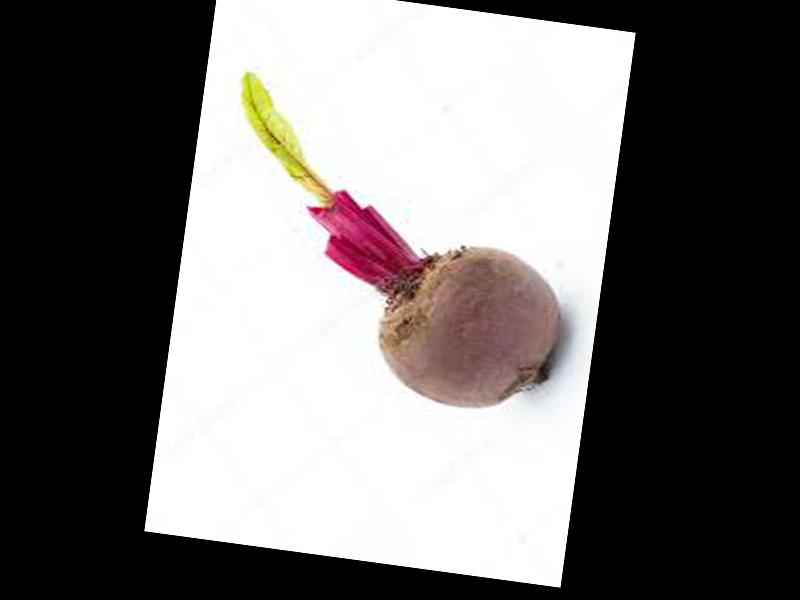Beet: (203, 74, 587, 419)
